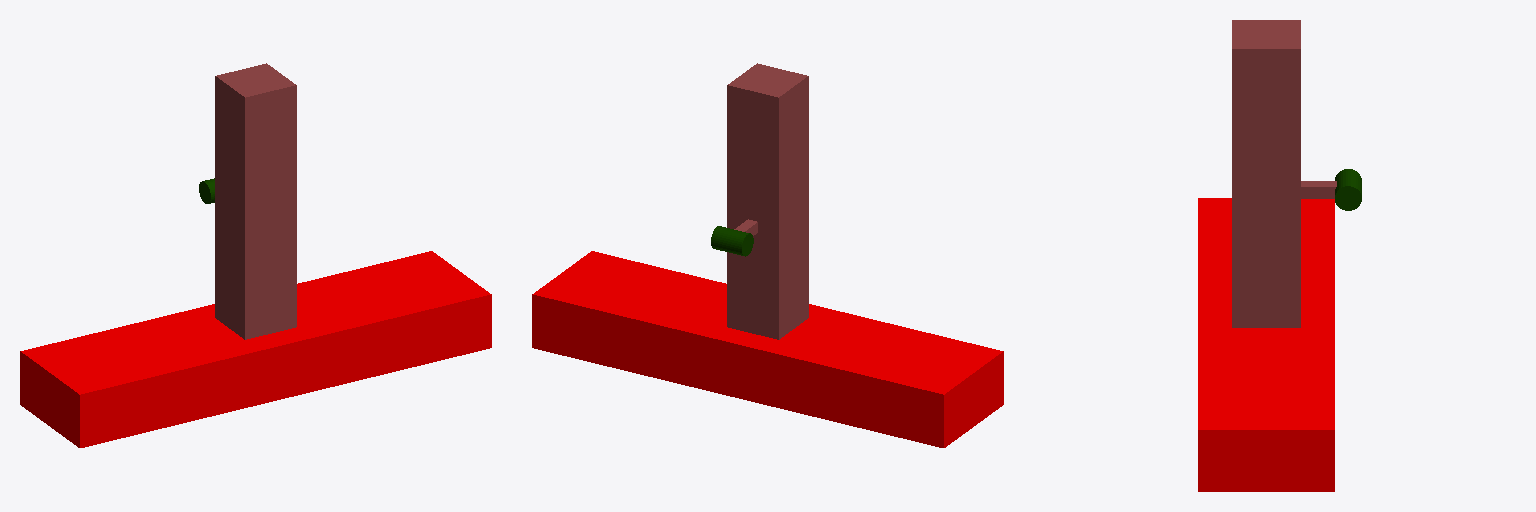
URDF robot description (pi_robot):
<?xml version="1.0"?>

<robot name="pi_robot">
	<link name="base_link">
		<visual>
		    <origin xyz="0 0 0" rpy="0 0 0"/>
			<geometry>
				<box size="4 1 0.5"/>
			</geometry>
			<material name="Cyan1">
	       		<color rgba="1 0 0 1.0"/>
	     	</material>
		</visual>	
	</link>
	
	
	<link name="ana_govde_link">
		<visual>
		    <origin xyz="0 0 1.25" rpy="0 0 0"/>
			<geometry>
				<box size="0.5 0.5 2.5"/>
			</geometry>
			<material name="Red">
	       		<color rgba="0.6 0.3 0.3 1.0"/>
	     	</material>
		</visual>	
	</link>

	<link name="ana_govde_cubuk_link">
		<visual>
		    <origin xyz="0 0.4 1.25" rpy="1.57 1.57 0"/>
			<geometry>
				<box size="0.1 0.1 0.3"/>
			</geometry>
			<material name="Red">
	       		<color rgba="0.6 0.3 0.3 1.0"/>
	     	</material>
		</visual>	
	</link>

	<link name="ana_govde_donme_link">
		<visual>
		    <origin xyz="0 0.6 1.25" rpy="0 1.57 0"/>
			<geometry>
				<cylinder radius="0.1" length="0.3"/>
			</geometry>
			<material name="Red">
	       		<color rgba="0.1 0.3 0 1.0"/>
	     	</material>
		</visual>	
	</link>


	<joint name="ana_govde_joint" type="fixed">
    	<parent link="base_link"/>
    	<child link="ana_govde_link"/>
    	<origin xyz="0 0 0" rpy="0 0 0"/>
	
	</joint>

	<joint name="ana_govde_cubuk_joint" type="prismatic">
    	<parent link="ana_govde_link"/>
    	<child link="ana_govde_cubuk_link"/>
    	<origin xyz="0 0 0" rpy="0 0 0"/>
        <axis xyz="0 0 1"/>
		<limit lower="-3.1416" upper="3.1416" effort="10" velocity="3"/>
	</joint>

	<joint name="ana_govde_donme_joint" type="revolute">
    	<parent link="ana_govde_cubuk_link"/>
    	<child link="ana_govde_donme_link"/>
    	<origin xyz="0 0 0" rpy="0 0 0"/>
		<axis xyz="1 0 0"/>
		<limit lower="-3.1416" upper="3.1416" effort="10" velocity="3"/>
	</joint>







</robot>

--- Facts derived from the render (not from the file) ---
Views: 3 orthographic renders of the robot side by side, from view 1: azimuth 30°, elevation 25°; view 2: azimuth 150°, elevation 25°; view 3: azimuth 270°, elevation 25°.
Robot: pi_robot — 4 links, 3 joints (1 revolute, 1 prismatic, 1 fixed); root link base_link; default pose: every joint at zero.
Visible links, largest first — view 1: base_link, ana_govde_link; view 2: base_link, ana_govde_link, ana_govde_donme_link; view 3: base_link, ana_govde_link, ana_govde_donme_link, ana_govde_cubuk_link.
Boxes of the visible links, x1=… form: base_link: x1=20, y1=251, x2=491, y2=447; ana_govde_link: x1=215, y1=63, x2=296, y2=339; base_link: x1=532, y1=251, x2=1003, y2=447; ana_govde_link: x1=727, y1=63, x2=808, y2=339; ana_govde_donme_link: x1=711, y1=226, x2=753, y2=256; base_link: x1=1198, y1=198, x2=1334, y2=491; ana_govde_link: x1=1232, y1=20, x2=1300, y2=327; ana_govde_donme_link: x1=1335, y1=169, x2=1361, y2=210; ana_govde_cubuk_link: x1=1301, y1=181, x2=1336, y2=198.
Size in the robot's own frame: 4 by 1.2 by 2.75 metres.
Geometry: primitives only (box / cylinder / sphere), no mesh files.
